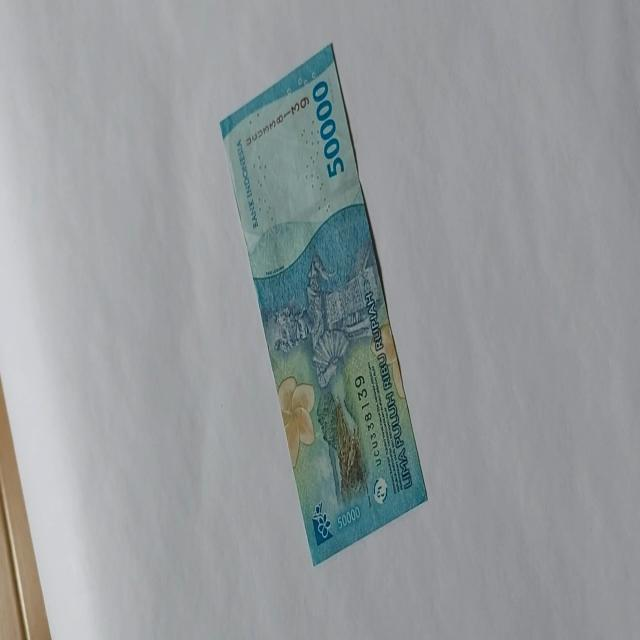lima puluh ribu rupiah: (218, 41, 428, 566)
